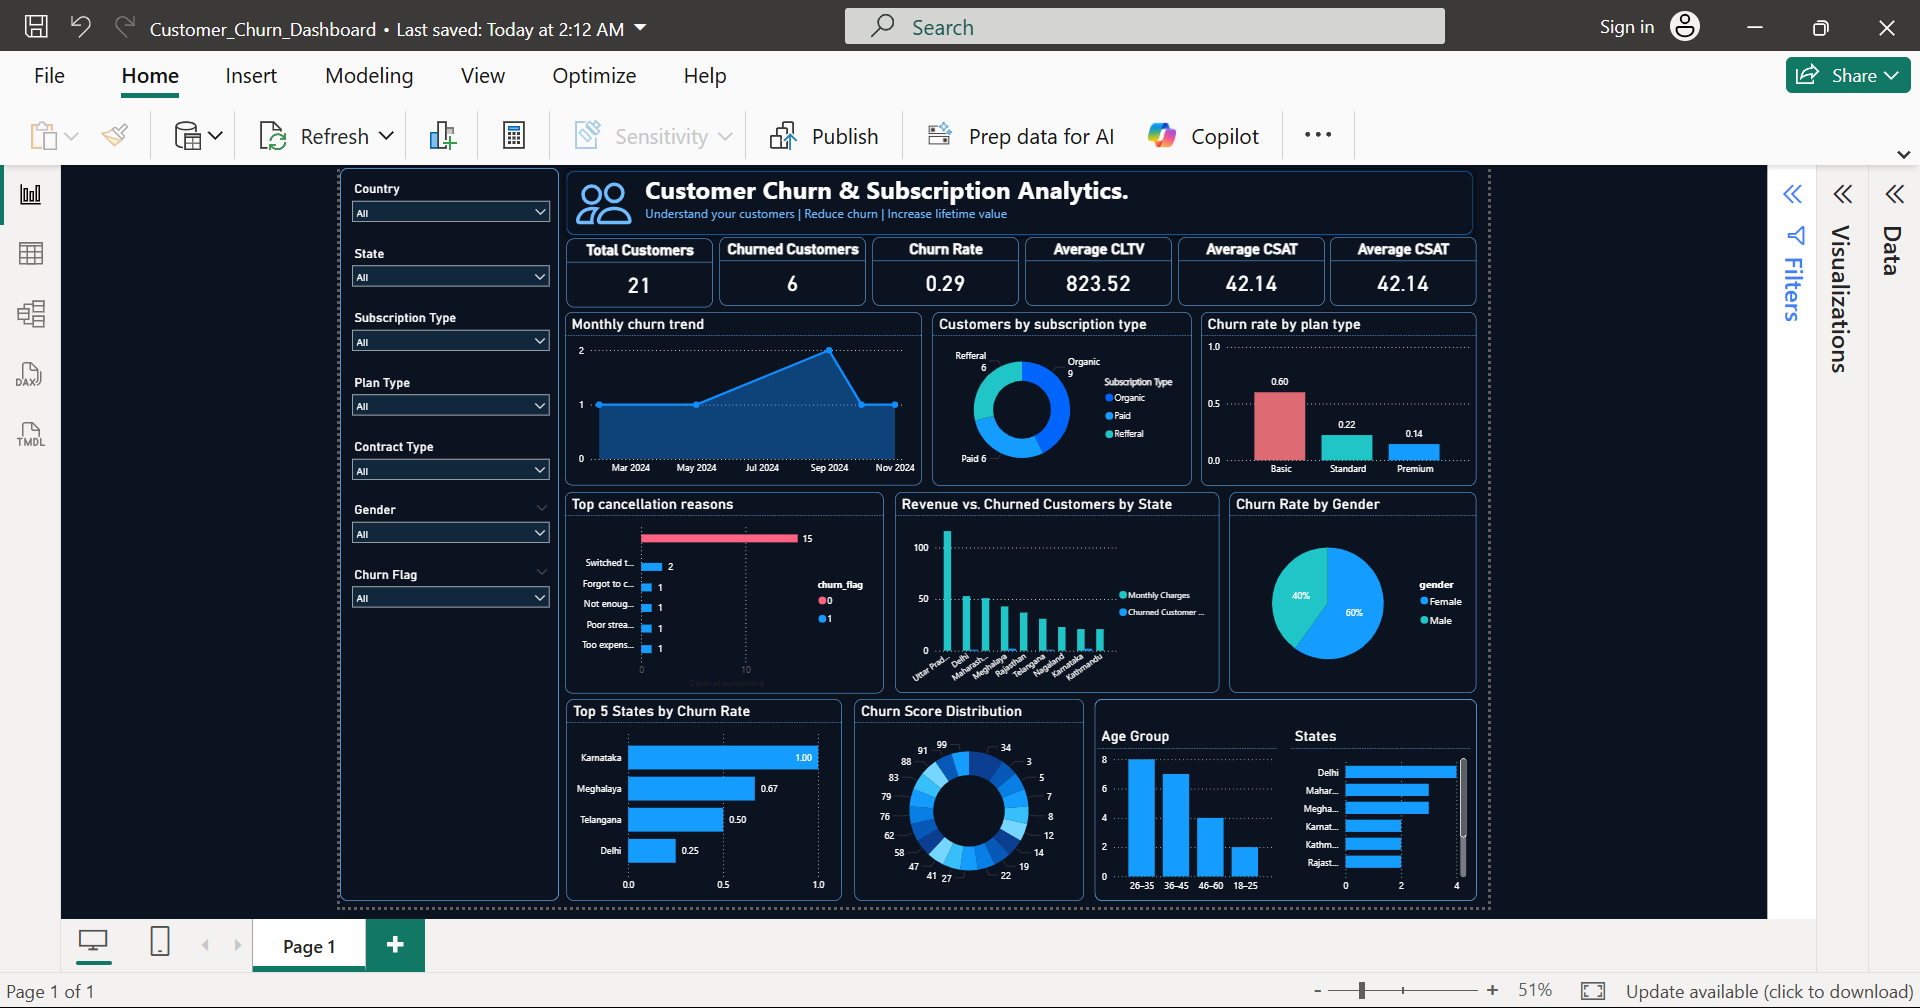

What the dashboard file says about the page in this screenshot:
{"tool":"powerbi","page":{"name":"Page 1","canvas":[1500,970],"ordinal":0},"visuals":[{"type":"shape","box":[0,4.5,286.4,958.2],"z":0},{"type":"shape","box":[292.9,4.3,1192.9,91.4],"z":1000},{"type":"textbox","box":[394.6,4.9,965.5,84.1],"z":2000},{"type":"image","box":[304.2,13.1,81.5,72.8],"z":3000},{"type":"card","title":"Total Customers","fields":{"Values":["exported_churn_data.Total Customers"]},"box":[295.7,95.7,191.4,90],"z":4000},{"type":"card","title":"Churned Customers","fields":{"Values":["exported_churn_data.Churned Customer Count"]},"box":[495.7,94.3,191.4,90],"z":5000},{"type":"card","title":"Churn Rate","fields":{"Values":["exported_churn_data.Churn Rate"]},"box":[695.7,94.3,191.4,90],"z":6000},{"type":"card","title":"Average CLTV","fields":{"Values":["exported_churn_data.Average CLTV"]},"box":[895.7,94.3,191.4,90],"z":7000},{"type":"card","title":"Average CSAT","fields":{"Values":["exported_churn_data.Average CSAT"]},"box":[1095.7,94.3,191.4,90],"z":8000},{"type":"lineChart","title":"Monthly churn trend","fields":{"Y":["exported_churn_data.Churned Customer Count"],"Category":["exported_churn_data.cancellation_date.Variation.Date Hierarchy.Year","exported_churn_data.cancellation_date.Variation.Date Hierarchy.Month"]},"box":[295,191.7,466.7,226.7],"z":9000},{"type":"donutChart","title":"Customers by subscription type","fields":{"Category":["exported_churn_data.subscription_type"],"Y":["CountNonNull(exported_churn_data.customerid)"]},"box":[774.3,191.4,338.6,227.1],"z":10000},{"type":"columnChart","title":"Churn rate by plan type","fields":{"Category":["exported_churn_data.plan_type"],"Y":["exported_churn_data.Churn Rate"]},"box":[1125.7,191.4,360,227.1],"z":11000},{"type":"clusteredBarChart","title":"Top cancellation reasons","fields":{"Category":["exported_churn_data.cancellation_reason"],"Y":["CountNonNull(exported_churn_data.customerid)"],"Series":["exported_churn_data.churn_flag"]},"box":[295,426.7,416.7,263.3],"z":12000},{"type":"lineClusteredColumnComboChart","title":"Revenue vs. Churned Customers by State","fields":{"Category":["exported_churn_data.state"],"Y":["exported_churn_data.Monthly Charges","exported_churn_data.Churned Customer Count"]},"box":[725.7,427.1,424.3,262.9],"z":13000},{"type":"pieChart","title":"Churn Rate by Gender","fields":{"Category":["exported_churn_data.gender"],"Y":["exported_churn_data.Churn Rate"]},"box":[1162.9,427.1,322.9,262.9],"z":14000},{"type":"barChart","title":"Top 5 States by Churn Rate","fields":{"Category":["exported_churn_data.state"],"Y":["exported_churn_data.Churn Rate"]},"box":[296,698,360,264],"z":15000},{"type":"donutChart","title":"Churn Score Distribution","fields":{"Category":["exported_churn_data.churn_score"],"Y":["CountNonNull(exported_churn_data.customerid)"]},"box":[672,698,300,264],"z":16000},{"type":"shape","box":[986,698,500,264],"z":17000},{"type":"columnChart","title":"Age Group","fields":{"Category":["exported_churn_data.Age Group"],"Y":["Count(exported_churn_data.customerid)"]},"box":[990,736,234,224],"z":18000},{"type":"barChart","title":"States","fields":{"Y":["Count(exported_churn_data.customerid)"],"Category":["exported_churn_data.state"]},"box":[1244,736,234,224],"z":19000},{"type":"card","title":"Average CSAT","fields":{"Values":["exported_churn_data.Average CSAT"]},"box":[1294.3,94.3,191.4,90],"z":20000},{"type":"slicer","fields":{"Values":["exported_churn_data.country"]},"box":[5,16.2,278.8,80],"z":21000},{"type":"slicer","fields":{"Values":["exported_churn_data.state"]},"box":[6,100,278,80],"z":22000},{"type":"slicer","fields":{"Values":["exported_churn_data.subscription_type"]},"box":[6,184,278,80],"z":23000},{"type":"slicer","fields":{"Values":["exported_churn_data.plan_type"]},"box":[6,268,278,80],"z":24000},{"type":"slicer","fields":{"Values":["exported_churn_data.contract_type"]},"box":[6,352,278,80],"z":25000},{"type":"slicer","fields":{"Values":["exported_churn_data.gender"]},"box":[6,436,278,80],"z":26000},{"type":"slicer","fields":{"Values":["exported_churn_data.churn_flag"]},"box":[6,520,278,80],"z":27000}]}

Visuals, with their boxes on the page's 1500x970 design canvas (x1, y1, x2, y2). These are canvas units, not pixel positions in the 1920x1008 screenshot, which may show the page scaled, cropped or inside an application window:
shape: rect(0, 4, 286, 963)
shape: rect(293, 4, 1486, 96)
textbox: rect(395, 5, 1360, 89)
image: rect(304, 13, 386, 86)
"Total Customers" card: rect(296, 96, 487, 186)
"Churned Customers" card: rect(496, 94, 687, 184)
"Churn Rate" card: rect(696, 94, 887, 184)
"Average CLTV" card: rect(896, 94, 1087, 184)
"Average CSAT" card: rect(1096, 94, 1287, 184)
"Monthly churn trend" lineChart: rect(295, 192, 762, 418)
"Customers by subscription type" donutChart: rect(774, 191, 1113, 418)
"Churn rate by plan type" columnChart: rect(1126, 191, 1486, 418)
"Top cancellation reasons" clusteredBarChart: rect(295, 427, 712, 690)
"Revenue vs. Churned Customers by State" lineClusteredColumnComboChart: rect(726, 427, 1150, 690)
"Churn Rate by Gender" pieChart: rect(1163, 427, 1486, 690)
"Top 5 States by Churn Rate" barChart: rect(296, 698, 656, 962)
"Churn Score Distribution" donutChart: rect(672, 698, 972, 962)
shape: rect(986, 698, 1486, 962)
"Age Group" columnChart: rect(990, 736, 1224, 960)
"States" barChart: rect(1244, 736, 1478, 960)
"Average CSAT" card: rect(1294, 94, 1486, 184)
slicer - exported_churn_data.country: rect(5, 16, 284, 96)
slicer - exported_churn_data.state: rect(6, 100, 284, 180)
slicer - exported_churn_data.subscription_type: rect(6, 184, 284, 264)
slicer - exported_churn_data.plan_type: rect(6, 268, 284, 348)
slicer - exported_churn_data.contract_type: rect(6, 352, 284, 432)
slicer - exported_churn_data.gender: rect(6, 436, 284, 516)
slicer - exported_churn_data.churn_flag: rect(6, 520, 284, 600)
